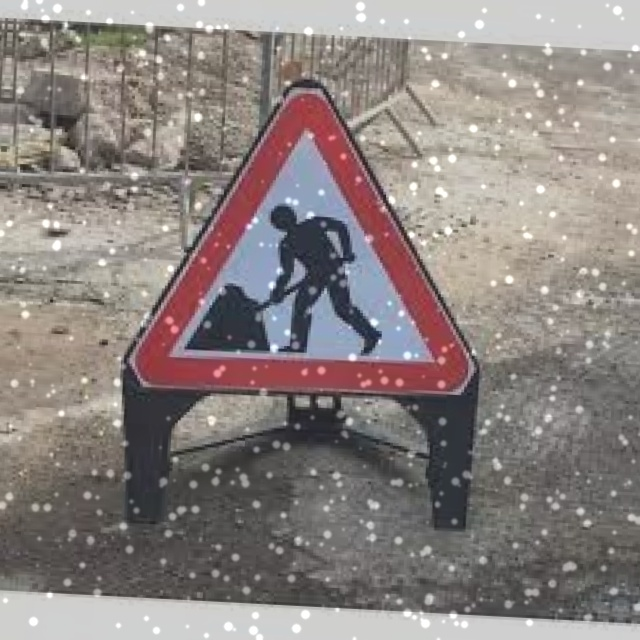Men_at_Work: (121, 67, 492, 399)
